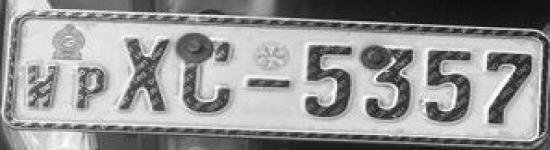-: (243, 75, 293, 94)
3: (364, 38, 416, 128)
5: (419, 41, 481, 128), (301, 38, 360, 126)
7: (480, 45, 538, 131)
C: (176, 30, 238, 118)
P: (70, 63, 111, 113)
W: (22, 61, 60, 112)
X: (116, 33, 173, 117)
